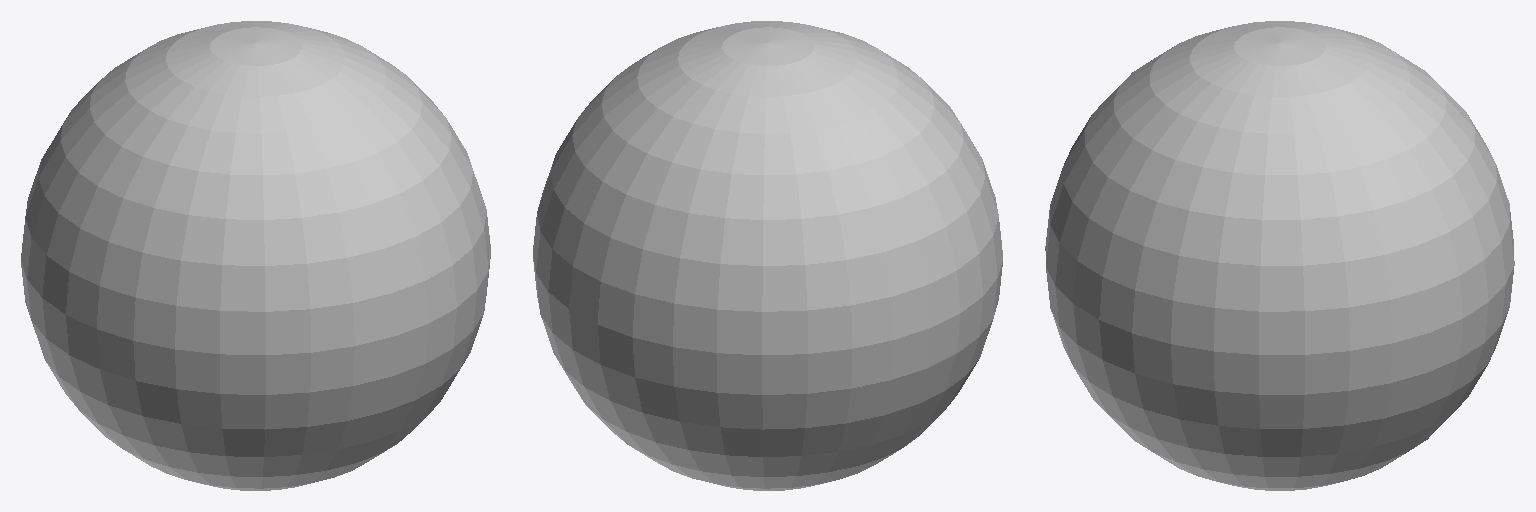
File: sun.obj
The picture shows the model from 3 angles: view 1: azimuth 30°, elevation 25°; view 2: azimuth 150°, elevation 25°; view 3: azimuth 270°, elevation 25°; orthographic projection.
Visible parts, largest first — view 1: Sun_Sphere.008; view 2: Sun_Sphere.008; view 3: Sun_Sphere.008.
Part boxes in pixels (bbox=[...]): Sun_Sphere.008: bbox=[21, 21, 490, 490]; Sun_Sphere.008: bbox=[533, 21, 1002, 490]; Sun_Sphere.008: bbox=[1045, 21, 1514, 490].
Size of the model in its own units: 99.64 by 100 by 99.64.